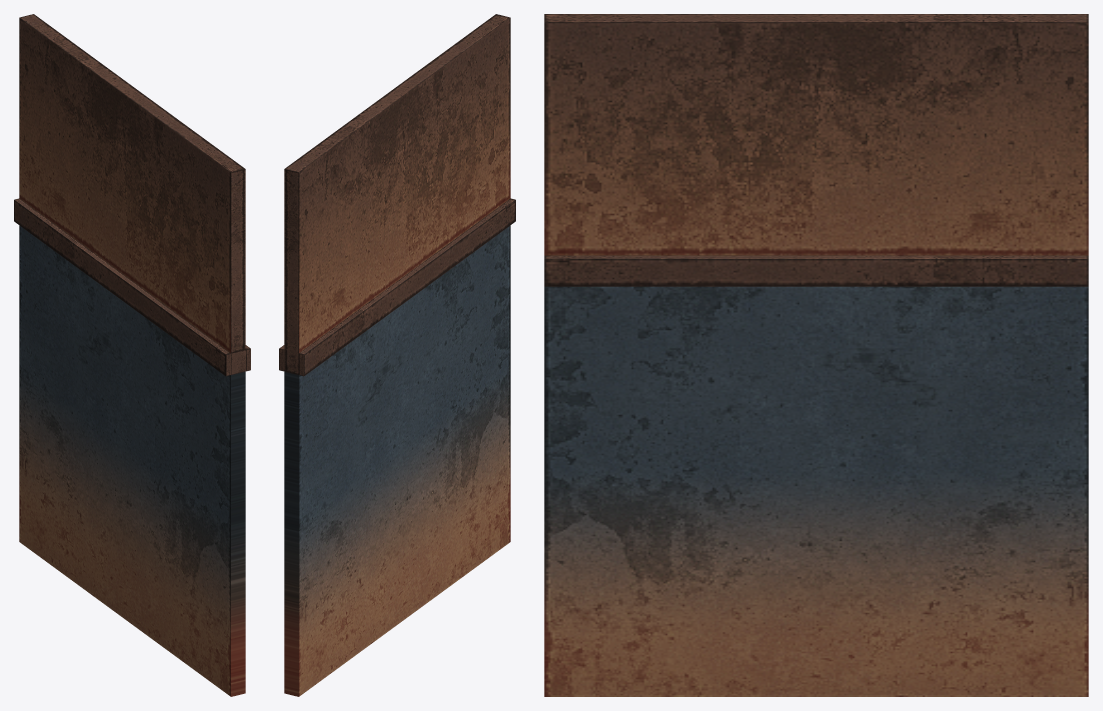
Rendered from Wall_Medium.fbx.
3 views of the same model, side by side, from view 1: azimuth 30°, elevation 25°; view 2: azimuth 150°, elevation 25°; view 3: azimuth 270°, elevation 25° (orthographic). The views are drawn at different scales.
Parts seen in each view (by area): view 1: Wall_Medium; view 2: Wall_Medium; view 3: Wall_Medium.
Boxes of the visible parts, box(x1,y1,x2,y2) form: Wall_Medium: box(14, 14, 250, 696); Wall_Medium: box(279, 14, 515, 696); Wall_Medium: box(544, 14, 1088, 696).
Bounding box in the file's own units: 0.4076 × 8.13 × 5.96.
Materials: 1 (1 with a texture image).
